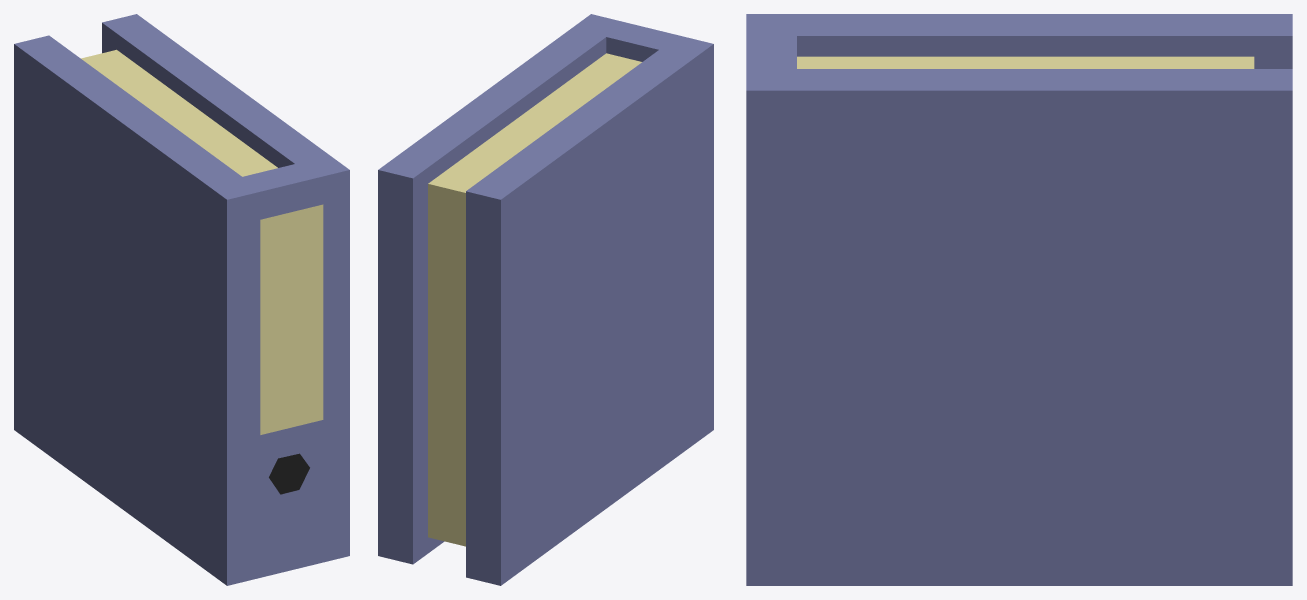
The model's file is BlueCarpet.fbx.
The picture shows the model from 3 angles, left to right: view 1: azimuth 30°, elevation 25°; view 2: azimuth 150°, elevation 25°; view 3: azimuth 270°, elevation 25°; orthographic projection. The views are drawn at different scales.
Parts seen in each view (by area): view 1: Cube.229; view 2: Cube.229; view 3: Cube.229.
Part boxes in pixels (x1,y1,x2,y2): Cube.229: (14, 14, 349, 585); Cube.229: (378, 14, 713, 585); Cube.229: (746, 14, 1292, 585).
Size of the model in its own units: 66.51 by 200 by 201.
